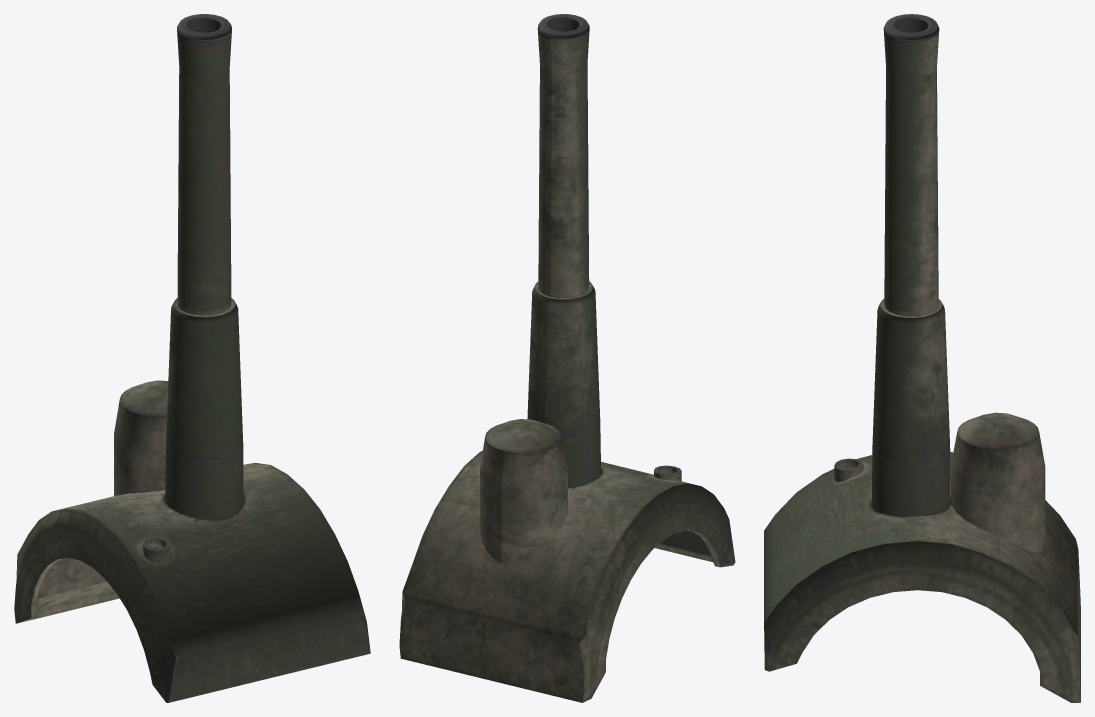
File: Gun_04.glb
The picture shows the model from 3 angles, left to right: view 1: azimuth 30°, elevation 25°; view 2: azimuth 150°, elevation 25°; view 3: azimuth 270°, elevation 25°; orthographic projection. The views are drawn at different scales.
Visible parts, largest first — view 1: set_0_group_0; view 2: set_0_group_0; view 3: set_0_group_0.
Part boxes in pixels (x1=…): set_0_group_0: x1=14, y1=14, x2=370, y2=702; set_0_group_0: x1=399, y1=14, x2=735, y2=702; set_0_group_0: x1=764, y1=14, x2=1080, y2=702.
Bounding box in the file's own units: 0.514 × 1.54 × 0.6958.
1 material, 1 textured.
